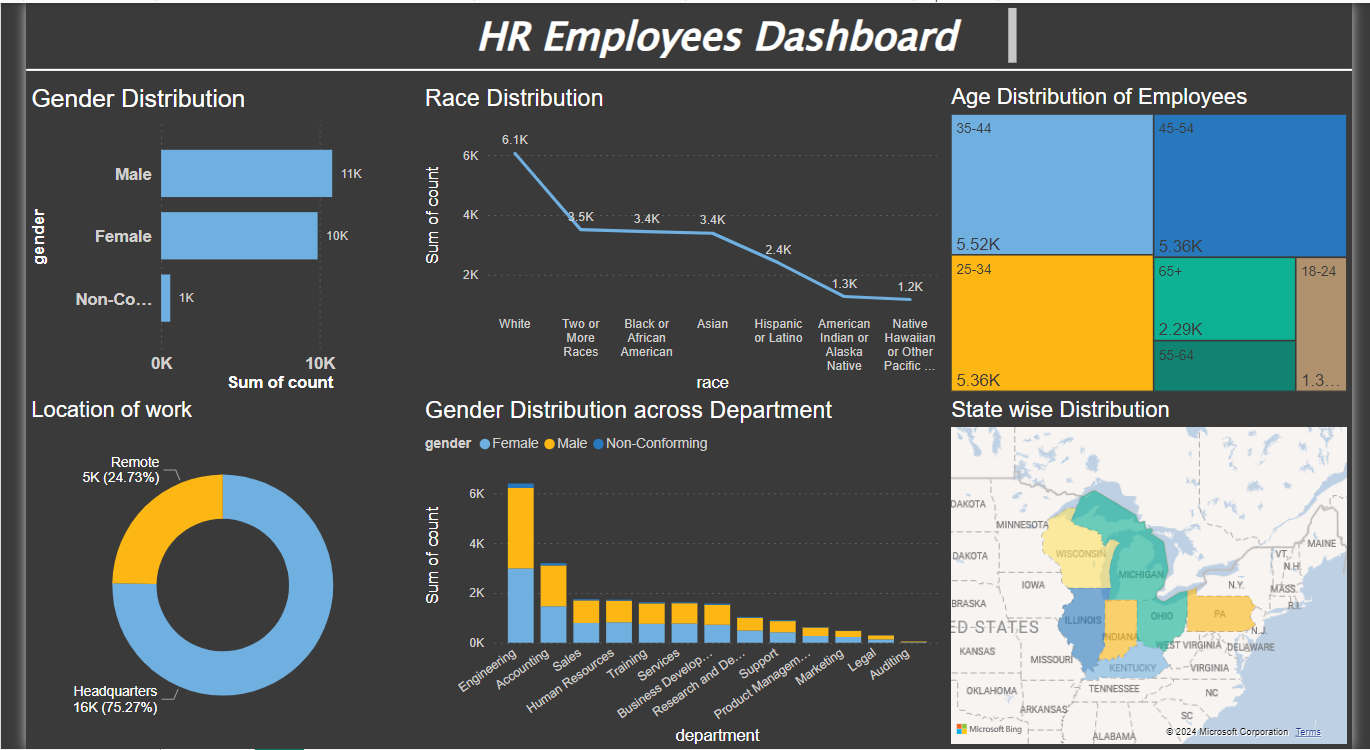

Layout of this report page (visuals, bound fields, positions):
{"tool":"powerbi","page":{"name":"Page 1","canvas":[1280,720],"ordinal":0},"visuals":[{"type":"textbox","box":[380.3,0,580.8,64.8],"z":0},{"type":"barChart","title":"Gender Distribution","fields":{"Category":["gender_break.gender"],"Y":["Sum(gender_break.count)"]},"box":[0,78.4,380,301.6],"z":1000},{"type":"lineChart","title":"Race Distribution","fields":{"Category":["race_break.race"],"Y":["Sum(race_break.count)"]},"box":[380,78.4,507.9,301.6],"z":2000},{"type":"treemap","title":"Age Distribution of Employees","fields":{"Group":["age_group.age_group"],"Values":["Sum(age_group.count)"]},"box":[887.9,78.4,392.1,301.6],"z":3000},{"type":"donutChart","title":"Location of work","fields":{"Y":["Sum(location.count)"],"Category":["location.location"]},"box":[0,380.3,380.3,339.9],"z":4000},{"type":"columnChart","title":"Gender Distribution across Department","fields":{"Category":["gender_dept_break.department"],"Y":["Sum(gender_dept_break.count)"],"Series":["gender_dept_break.gender"]},"box":[380.3,380.3,507.5,339.9],"z":5000},{"type":"filledMap","title":"State wise Distribution","fields":{"Category":["state_city.location_state"],"Series":["state_city.count"]},"box":[888,380,392,340],"z":6000},{"type":"shape","box":[0,12.1,1280,105],"z":6001}]}

Visuals, with their boxes in screenshot pixels (x1, y1, x2, y2), scaled from the page's 1280x720 canvas onto the 1370x750 screenshot:
textbox: box(407, 0, 1029, 68)
"Gender Distribution" barChart: box(0, 82, 407, 396)
"Race Distribution" lineChart: box(407, 82, 950, 396)
"Age Distribution of Employees" treemap: box(950, 82, 1369, 396)
"Location of work" donutChart: box(0, 396, 407, 749)
"Gender Distribution across Department" columnChart: box(407, 396, 950, 749)
"State wise Distribution" filledMap: box(950, 396, 1369, 749)
shape: box(0, 13, 1369, 122)
